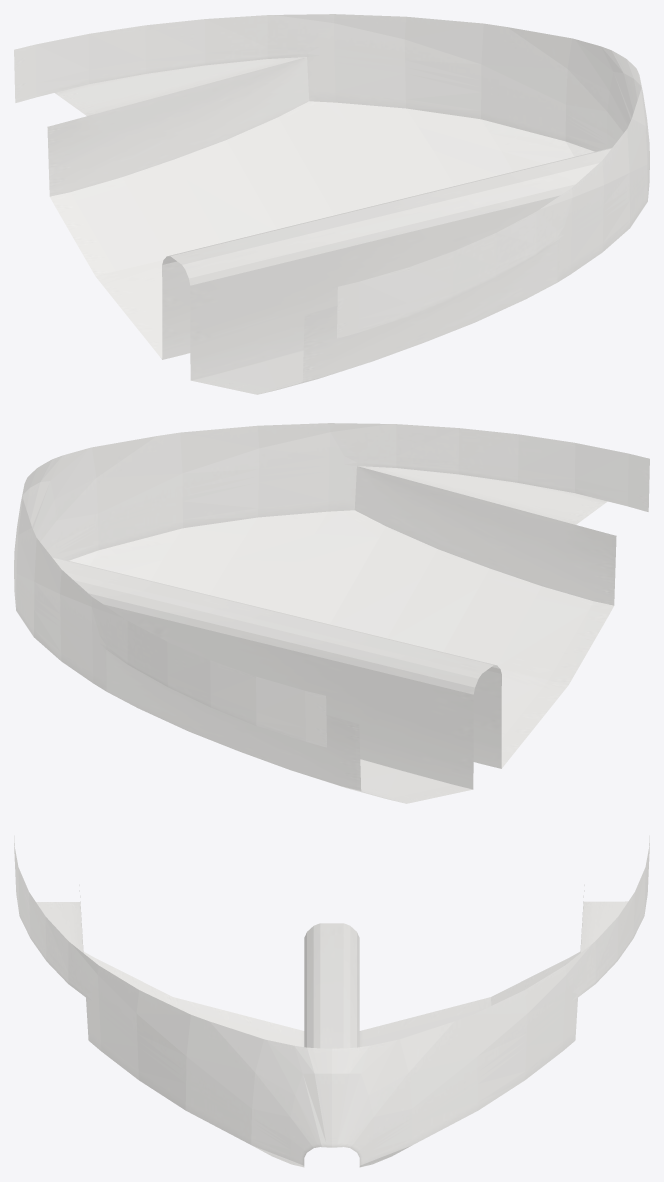
File: HLO_Pod_Bottom_Front.gltf
The picture shows the model from 3 angles, top to bottom: view 1: azimuth 30°, elevation 25°; view 2: azimuth 150°, elevation 25°; view 3: azimuth 270°, elevation 25°; orthographic projection.
Parts seen in each view (by area): view 1: 003_Pod_Bottom_Front; view 2: 003_Pod_Bottom_Front; view 3: 003_Pod_Bottom_Front.
Part boxes in pixels (box(x1,y1,x2,y2)): 003_Pod_Bottom_Front: box(14, 14, 649, 394); 003_Pod_Bottom_Front: box(14, 423, 649, 803); 003_Pod_Bottom_Front: box(14, 835, 649, 1167).
Size of the model in its own units: 2.41 by 0.9938 by 2.89.
1 material, 1 textured.
